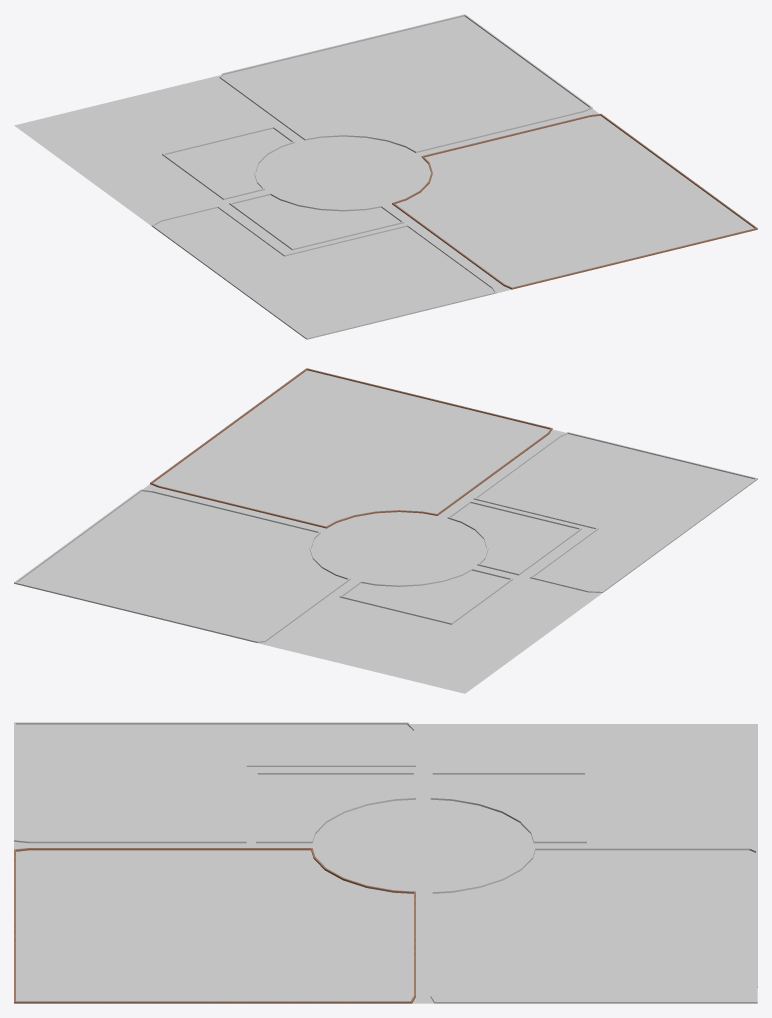
File: bordillo1.fbx
3 renders of one model, top to bottom at view 1: azimuth 30°, elevation 25°; view 2: azimuth 150°, elevation 25°; view 3: azimuth 270°, elevation 25°, orthographic. The views are drawn at different scales.
Parts seen in each view (by area): view 1: Model; view 2: Model; view 3: Model.
Part boxes in pixels (left/top/right/bottom): Model: left=14, top=14, right=757, bottom=339; Model: left=14, top=368, right=757, bottom=693; Model: left=14, top=722, right=757, bottom=1003.
Bounding box in the file's own units: 178 × 0.5 × 200.
